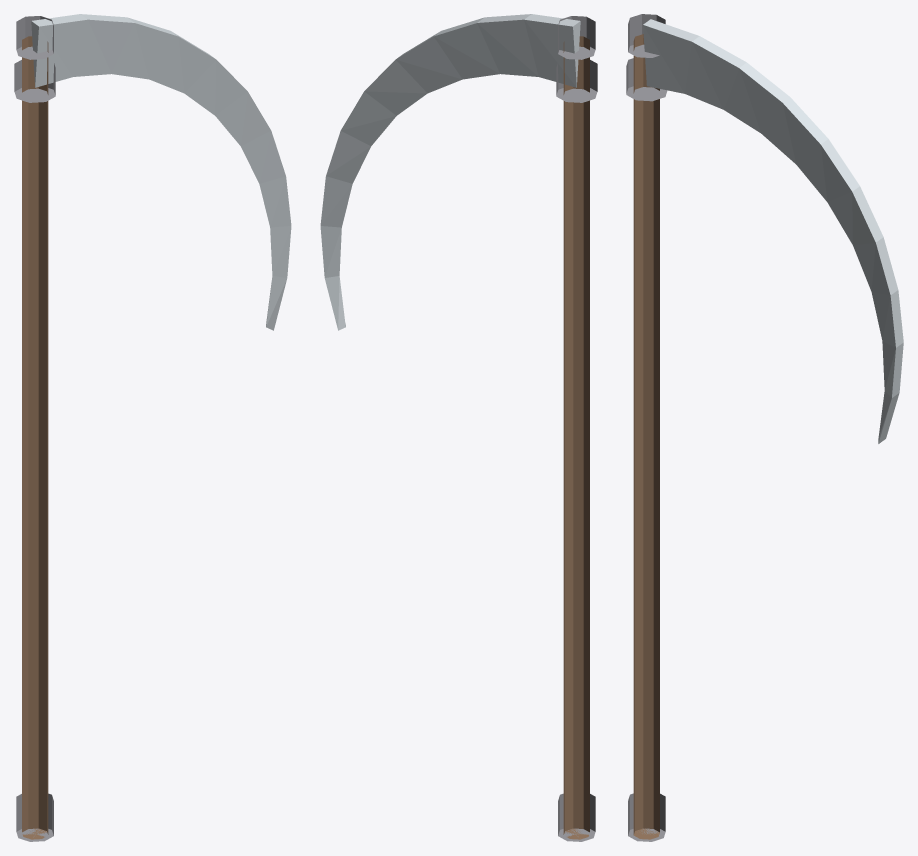
File: scythe-CxBQptuQ.glb
The picture shows the model from 3 angles, left to right: view 1: azimuth 30°, elevation 25°; view 2: azimuth 150°, elevation 25°; view 3: azimuth 330°, elevation 25°; orthographic projection.
Visible parts, largest first — view 1: Scythe; view 2: Scythe; view 3: Scythe.
Part boxes in pixels (x1,y1,x2,y2): Scythe: (14, 14, 291, 841); Scythe: (320, 14, 597, 841); Scythe: (626, 14, 903, 841).
Bounding box in the file's own units: 0.8049 × 2.3 × 0.11.
